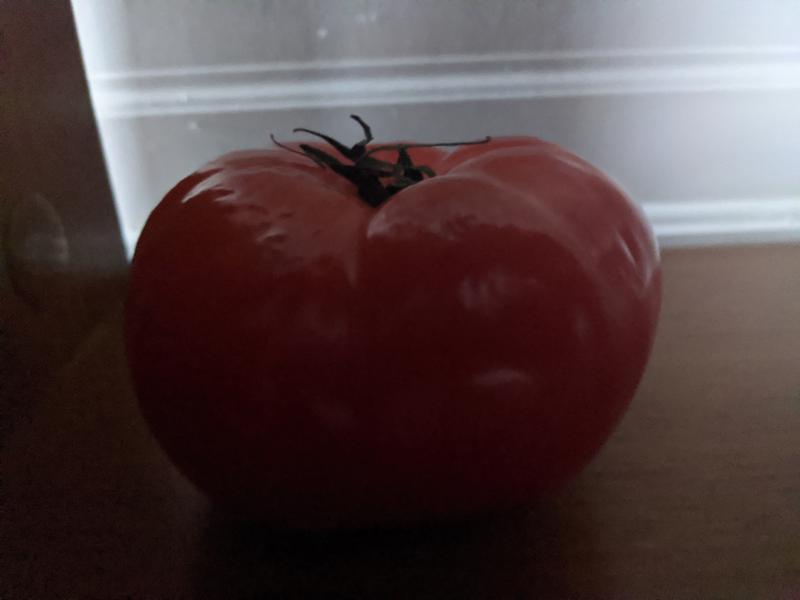tomato: (126, 137, 668, 533)
